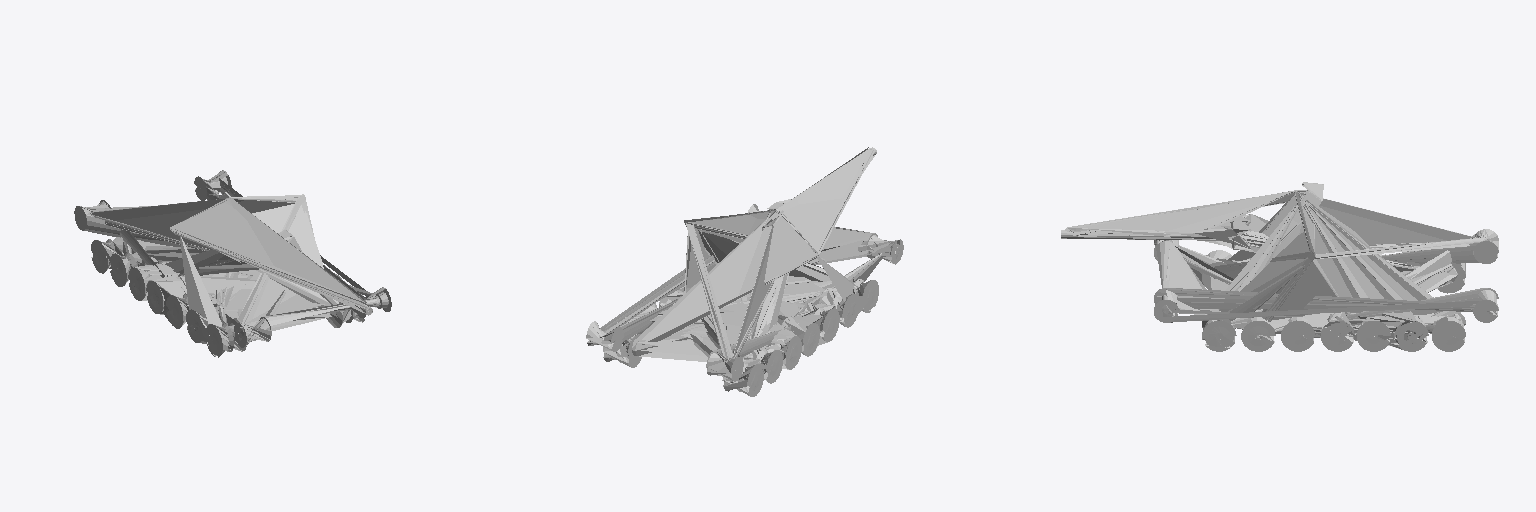
Rendered from Tank_M1A1.obj.
The picture shows the model from 3 angles: view 1: azimuth 30°, elevation 25°; view 2: azimuth 150°, elevation 25°; view 3: azimuth 270°, elevation 25°; orthographic projection.
Visible parts, largest first — view 1: Box04, Box51, Box01, Cylinder21; view 2: Box04, Cylinder21, Box01, Box51; view 3: Box04, Box51, Cylinder21, Box01.
Boxes of the visible parts, box(x1,y1,x2,y2) form: Box04: box(75, 170, 391, 357); Box51: box(74, 172, 390, 356); Box01: box(74, 194, 328, 351); Cylinder21: box(74, 195, 317, 323); Box04: box(586, 147, 903, 396); Cylinder21: box(632, 210, 821, 379); Box01: box(638, 209, 869, 396); Box51: box(587, 204, 899, 395); Box04: box(1061, 182, 1498, 351); Box51: box(1154, 190, 1498, 351); Cylinder21: box(1220, 191, 1494, 300); Box01: box(1210, 190, 1498, 292).
Size of the model in its own units: 154 by 123 by 402.